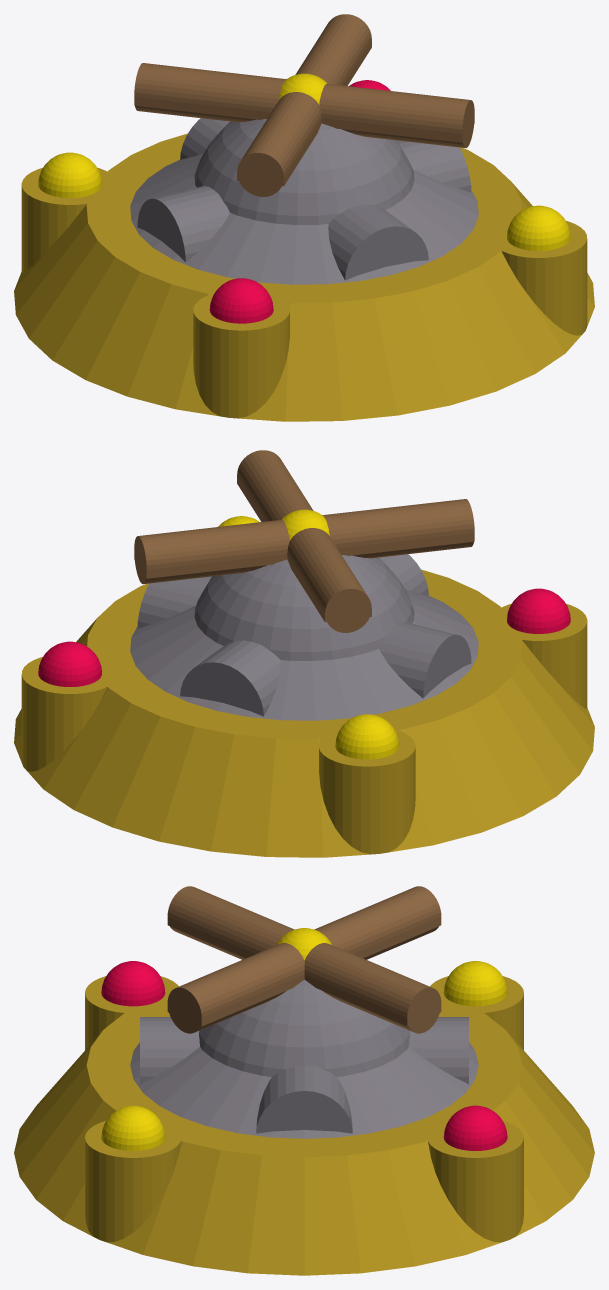
Rendered from LandBunker.dae.
The picture shows the model from 3 angles, top to bottom: view 1: azimuth 30°, elevation 25°; view 2: azimuth 150°, elevation 25°; view 3: azimuth 270°, elevation 25°; orthographic projection.
Visible parts, largest first — view 1: Cylinder, Cone; view 2: Cylinder, Cone; view 3: Cylinder, Cone.
Part boxes in pixels (x1,y1,x2,y2): Cylinder: (14, 80, 594, 421); Cone: (130, 14, 478, 284); Cylinder: (14, 516, 594, 857); Cone: (130, 450, 478, 720); Cylinder: (14, 961, 594, 1275); Cone: (130, 886, 478, 1138).
Bounding box in the file's own units: 6 × 6 × 2.73.
